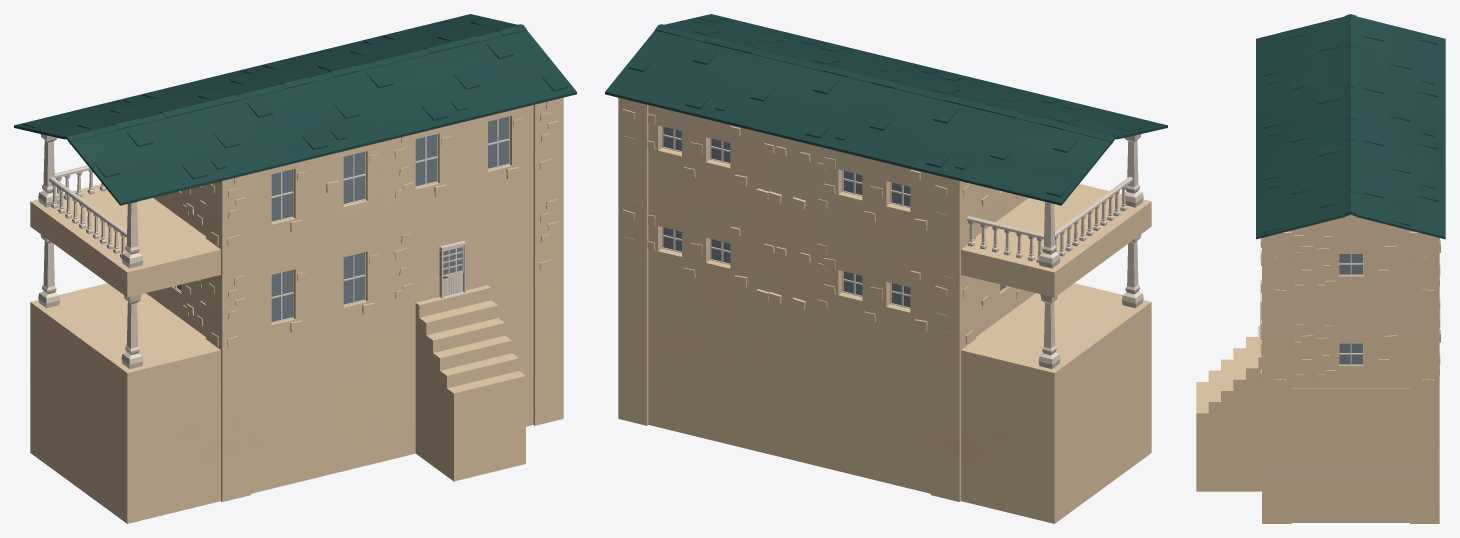
3 renders of one model, left to right at view 1: azimuth 30°, elevation 25°; view 2: azimuth 150°, elevation 25°; view 3: azimuth 270°, elevation 25°, orthographic. The views are drawn at different scales.
Visible parts, largest first — view 1: 5.001; view 2: 5.001; view 3: 5.001.
Boxes of the visible parts, left/top/right/bottom form: 5.001: left=14, top=14, right=576, bottom=523; 5.001: left=605, top=14, right=1167, bottom=523; 5.001: left=1196, top=14, right=1445, bottom=523.
Bounding box in the file's own units: 38.03 × 28.25 × 20.17.
Materials: 3 (1 with a texture image).
